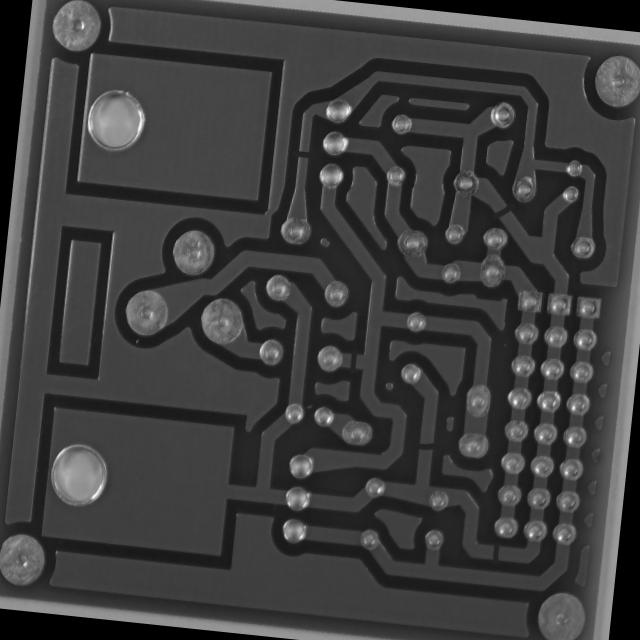open_circuit: (486, 198, 514, 222), (412, 436, 440, 457), (343, 346, 361, 374), (484, 540, 505, 564), (294, 146, 312, 163)
